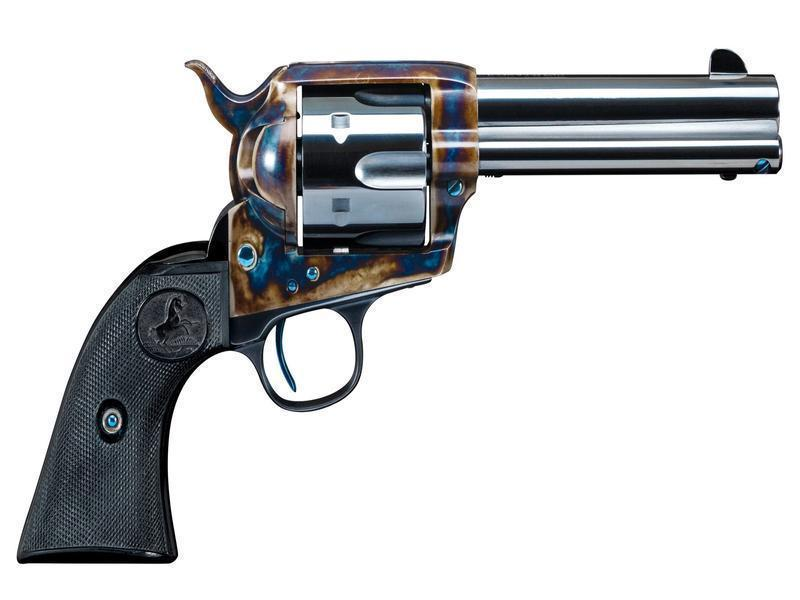GUN: (8, 41, 790, 570)
